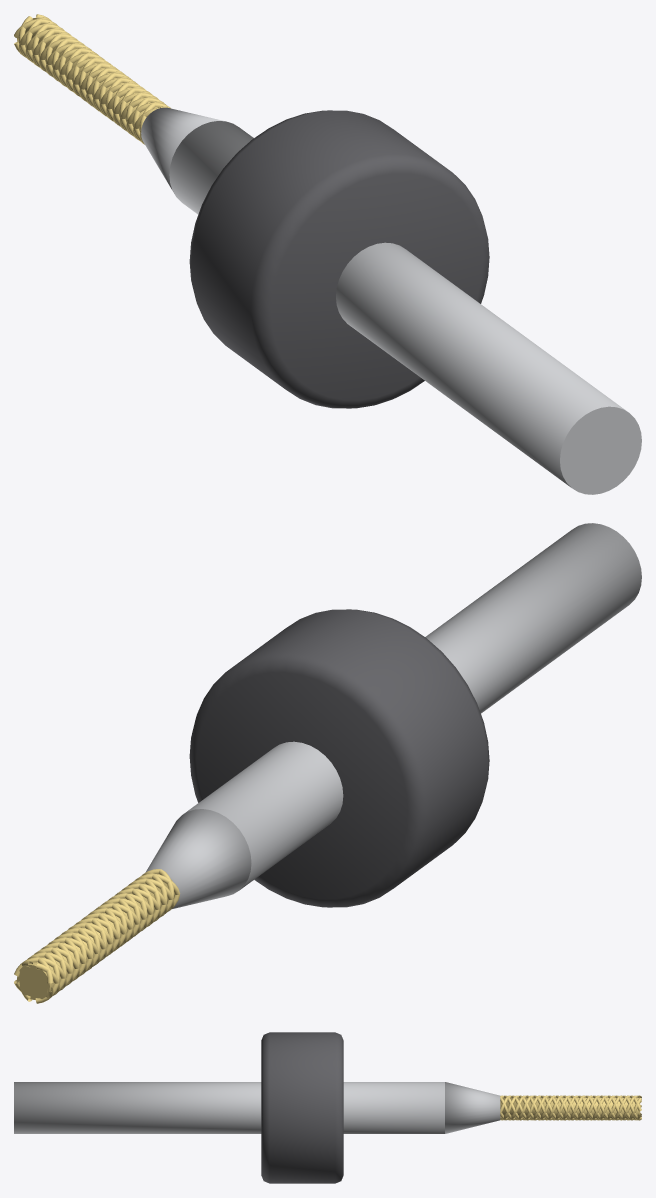
Rendered from corn18_1p5.glb.
3 views of the same model, one above another, from view 1: azimuth 30°, elevation 25°; view 2: azimuth 150°, elevation 25°; view 3: azimuth 270°, elevation 25° (orthographic). The views are drawn at different scales.
Visible parts, largest first — view 1: Cylinder.002, Cylinder.001, Cone, flute, flute.007, flute.006, flute.001, flute.002, flute.005, flute.004, flute.003; view 2: Cylinder.002, Cylinder.001, Cone, Cylinder, flute.007, flute, flute.002, flute.005, flute.001, flute.006, flute.004, flute.003; view 3: Cylinder.001, Cylinder.002, Cone, Cylinder, flute.006, flute.005, flute.004, flute.003, flute.007, flute, flute.001, flute.002.
Part boxes in pixels (bbox=[...]): Cylinder.002: bbox=[189, 110, 489, 408]; Cylinder.001: bbox=[169, 121, 641, 494]; Cone: bbox=[141, 107, 224, 189]; flute: bbox=[18, 24, 167, 133]; flute.007: bbox=[25, 17, 157, 144]; flute.006: bbox=[14, 19, 165, 129]; flute.001: bbox=[18, 16, 150, 141]; flute.002: bbox=[25, 29, 159, 138]; flute.005: bbox=[32, 22, 164, 132]; flute.004: bbox=[32, 14, 158, 143]; flute.003: bbox=[14, 27, 170, 136]; Cylinder.002: bbox=[189, 609, 489, 907]; Cylinder.001: bbox=[183, 523, 641, 889]; Cone: bbox=[145, 809, 251, 908]; Cylinder: bbox=[17, 873, 175, 999]; flute.007: bbox=[14, 878, 174, 988]; flute: bbox=[35, 872, 167, 1003]; flute.002: bbox=[14, 869, 174, 995]; flute.005: bbox=[21, 873, 180, 1001]; flute.001: bbox=[35, 883, 167, 993]; flute.006: bbox=[28, 877, 160, 985]; flute.004: bbox=[21, 882, 179, 990]; flute.003: bbox=[34, 869, 160, 998]; Cylinder.001: bbox=[14, 1082, 444, 1133]; Cylinder.002: bbox=[261, 1032, 343, 1183]; Cone: bbox=[445, 1082, 500, 1133]; Cylinder: bbox=[500, 1097, 640, 1118]; flute.006: bbox=[500, 1095, 641, 1120]; flute.005: bbox=[504, 1095, 641, 1120]; flute.004: bbox=[507, 1095, 641, 1120]; flute.003: bbox=[500, 1095, 641, 1120]; flute.007: bbox=[511, 1095, 641, 1120]; flute: bbox=[500, 1095, 641, 1120]; flute.001: bbox=[500, 1095, 641, 1120]; flute.002: bbox=[500, 1095, 641, 1120].
Size of the model in its own units: 0.00917 by 0.00917 by 0.0381.
